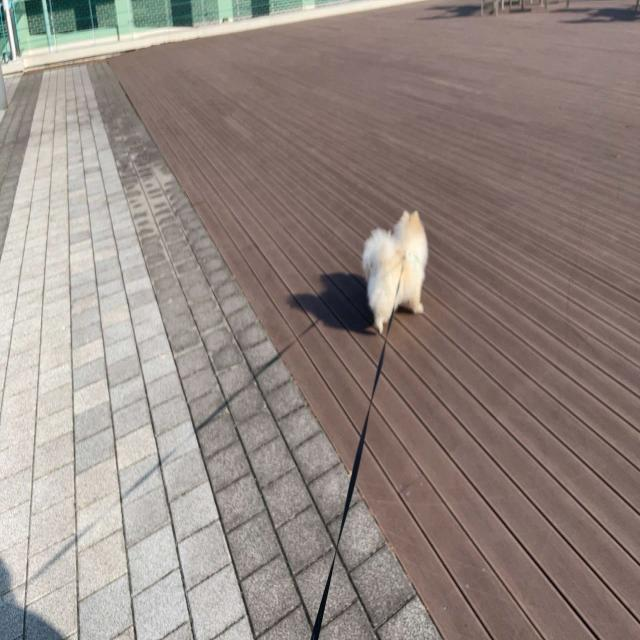Dog: (361, 208, 429, 336)
